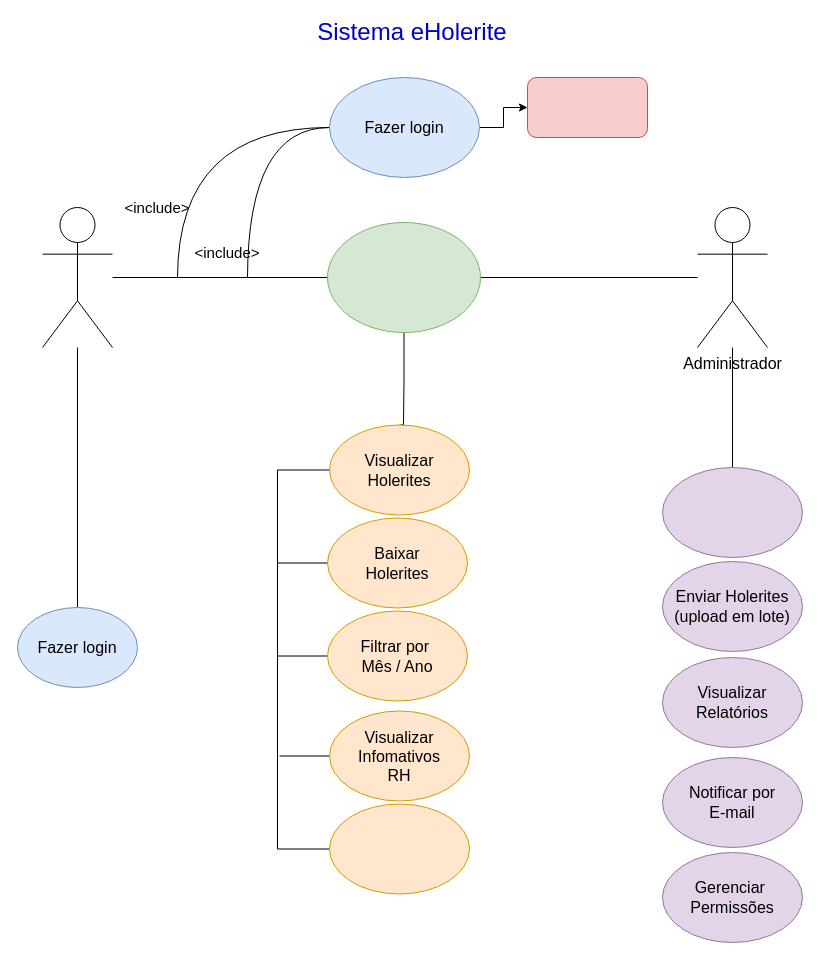
Some shapes in this 820 by 960 pixel diagram are drawn without their labels. Each missing label, with the box of its shape:
Alterar Senha: (328, 803, 470, 894)
Exibir Erro de Login: (526, 76, 648, 138)
Gerencia Usuários: (662, 466, 802, 558)
Usuario: (42, 206, 112, 348)
Verificar Senha <<include>>: (326, 222, 480, 332)
